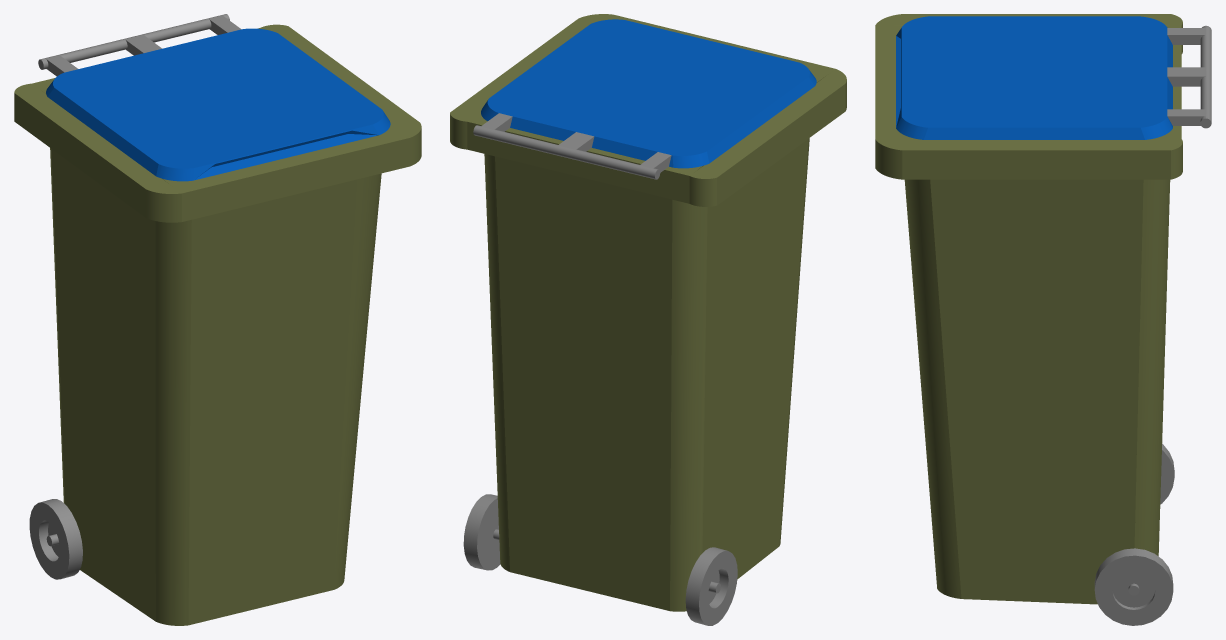
The model's file is wheelie_bin.glb.
3 renders of one model, left to right at view 1: azimuth 30°, elevation 25°; view 2: azimuth 150°, elevation 25°; view 3: azimuth 270°, elevation 25°, orthographic. The views are drawn at different scales.
Bounding box in the file's own units: 60 × 101 × 62.5.
